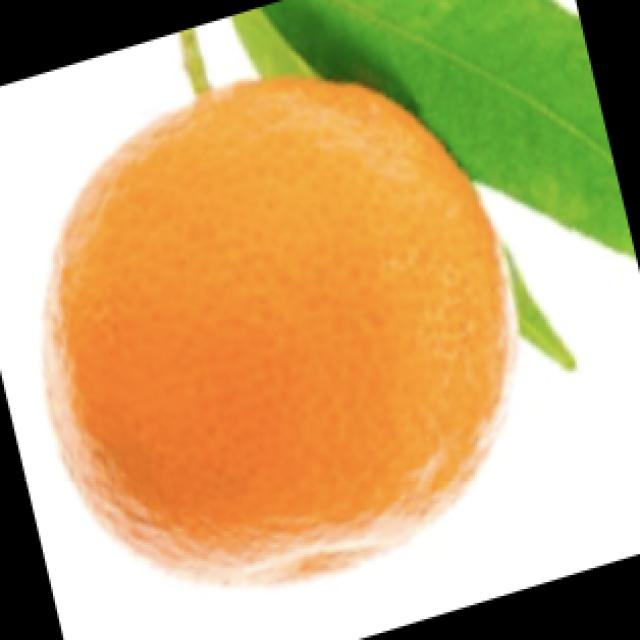matang: (44, 83, 513, 595)
